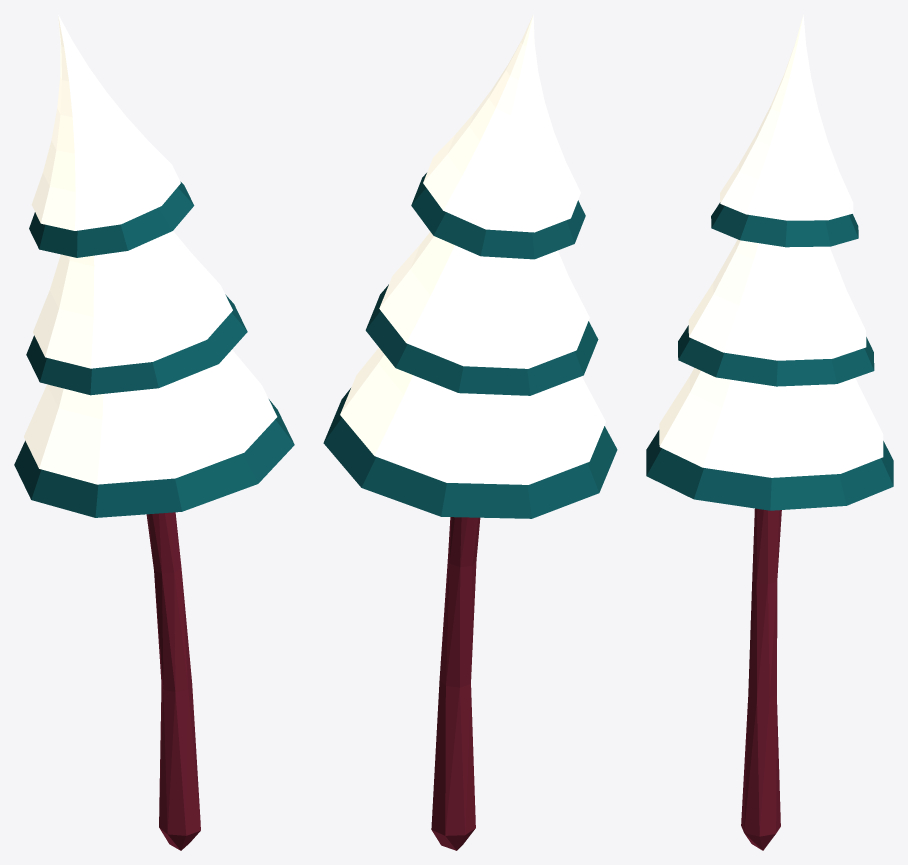
The model's file is TreeAsset3.fbx.
3 views of the same model, side by side, from view 1: azimuth 30°, elevation 25°; view 2: azimuth 150°, elevation 25°; view 3: azimuth 270°, elevation 25° (orthographic). The views are drawn at different scales.
Parts seen in each view (by area): view 1: Tree3; view 2: Tree3; view 3: Tree3.
Part boxes in pixels (x1,y1,x2,y2): Tree3: [14, 14, 294, 850]; Tree3: [323, 14, 617, 850]; Tree3: [646, 14, 893, 850].
Bounding box in the file's own units: 402 × 1308 × 373.
